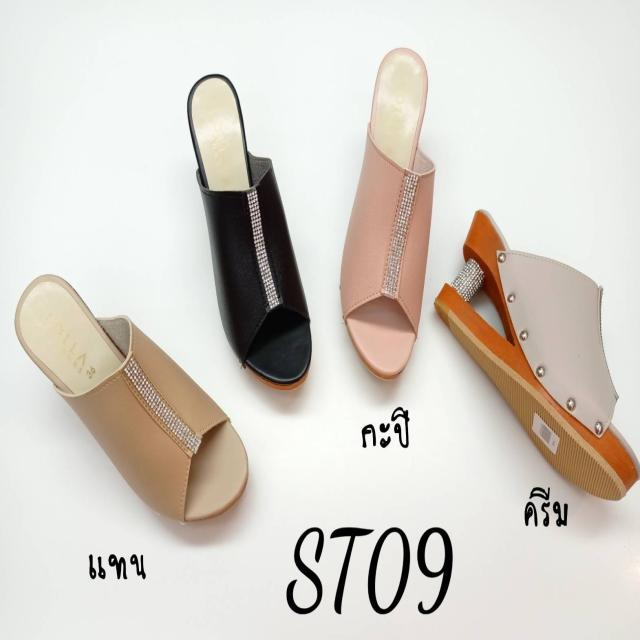black: (189, 73, 309, 397)
cream: (440, 215, 638, 500)
kapi: (338, 52, 430, 372)
tan: (13, 275, 249, 526)
